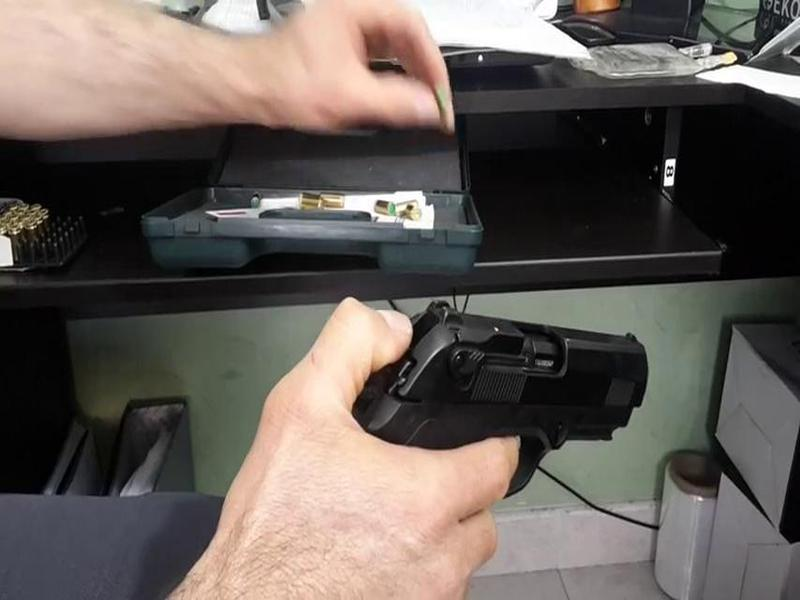Pistola: (328, 253, 653, 513)
